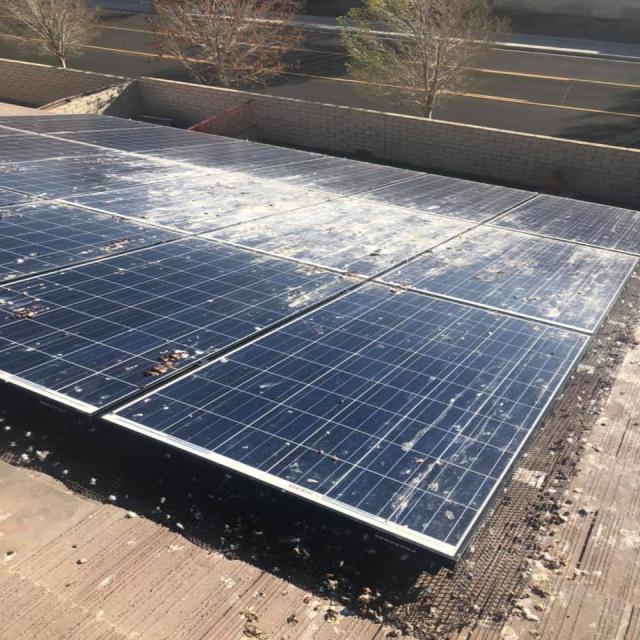dust-solar-panel: (0, 111, 640, 560)
